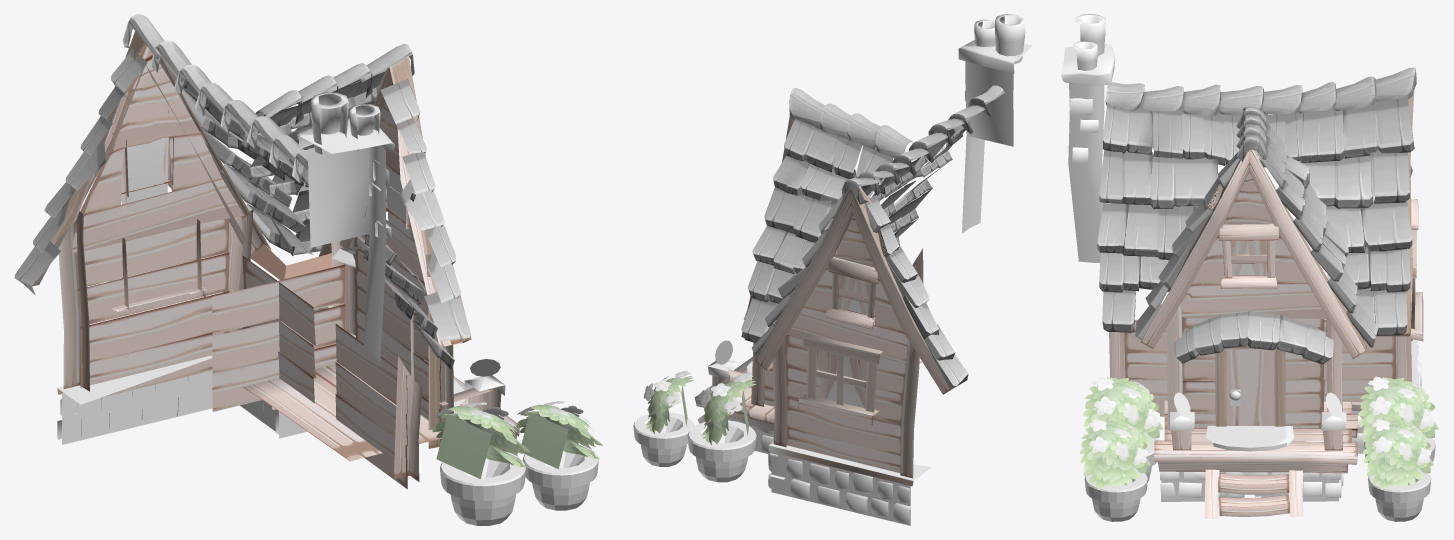
File: HouseVillage3.fbx
3 views of the same model, side by side, from view 1: azimuth 30°, elevation 25°; view 2: azimuth 150°, elevation 25°; view 3: azimuth 270°, elevation 25° (orthographic). The views are drawn at different scales.
Parts seen in each view (by area): view 1: HouseT2 (1), BushSmallBlue (×2), Flowerpot (3), Flowerpot (4); view 2: HouseT2 (1), Flowerpot (1), BushSmallBlue (×2), Flowerpot (2); view 3: HouseT2 (1), BushSmallBlue (×4), Flowerpot (2), Flowerpot (4).
Part boxes in pixels (x1,y1,x2,y2): HouseT2 (1): (14,14,519,489); BushSmallBlue (×2): (432,404,602,478); Flowerpot (3): (440,451,525,525); Flowerpot (4): (522,445,598,510); HouseT2 (1): (694,14,1031,525); Flowerpot (1): (687,420,756,482); BushSmallBlue (×2): (646,376,756,445); Flowerpot (2): (633,412,694,466); HouseT2 (1): (1061,14,1423,518); BushSmallBlue (×4): (1079,377,1438,489); Flowerpot (2): (1368,468,1431,521); Flowerpot (4): (1084,468,1147,521).
Size of the model in its own units: 4.88 by 5.54 by 4.76.
